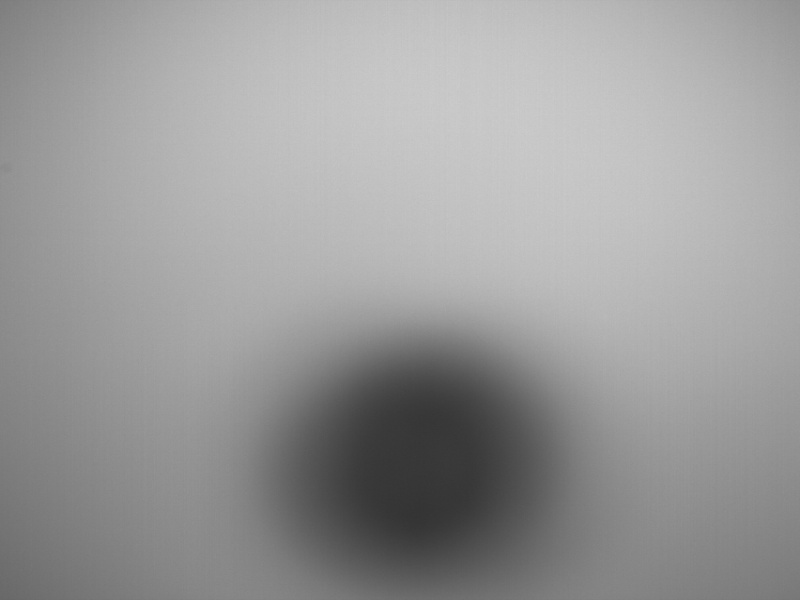bead: (305, 355, 536, 576)
